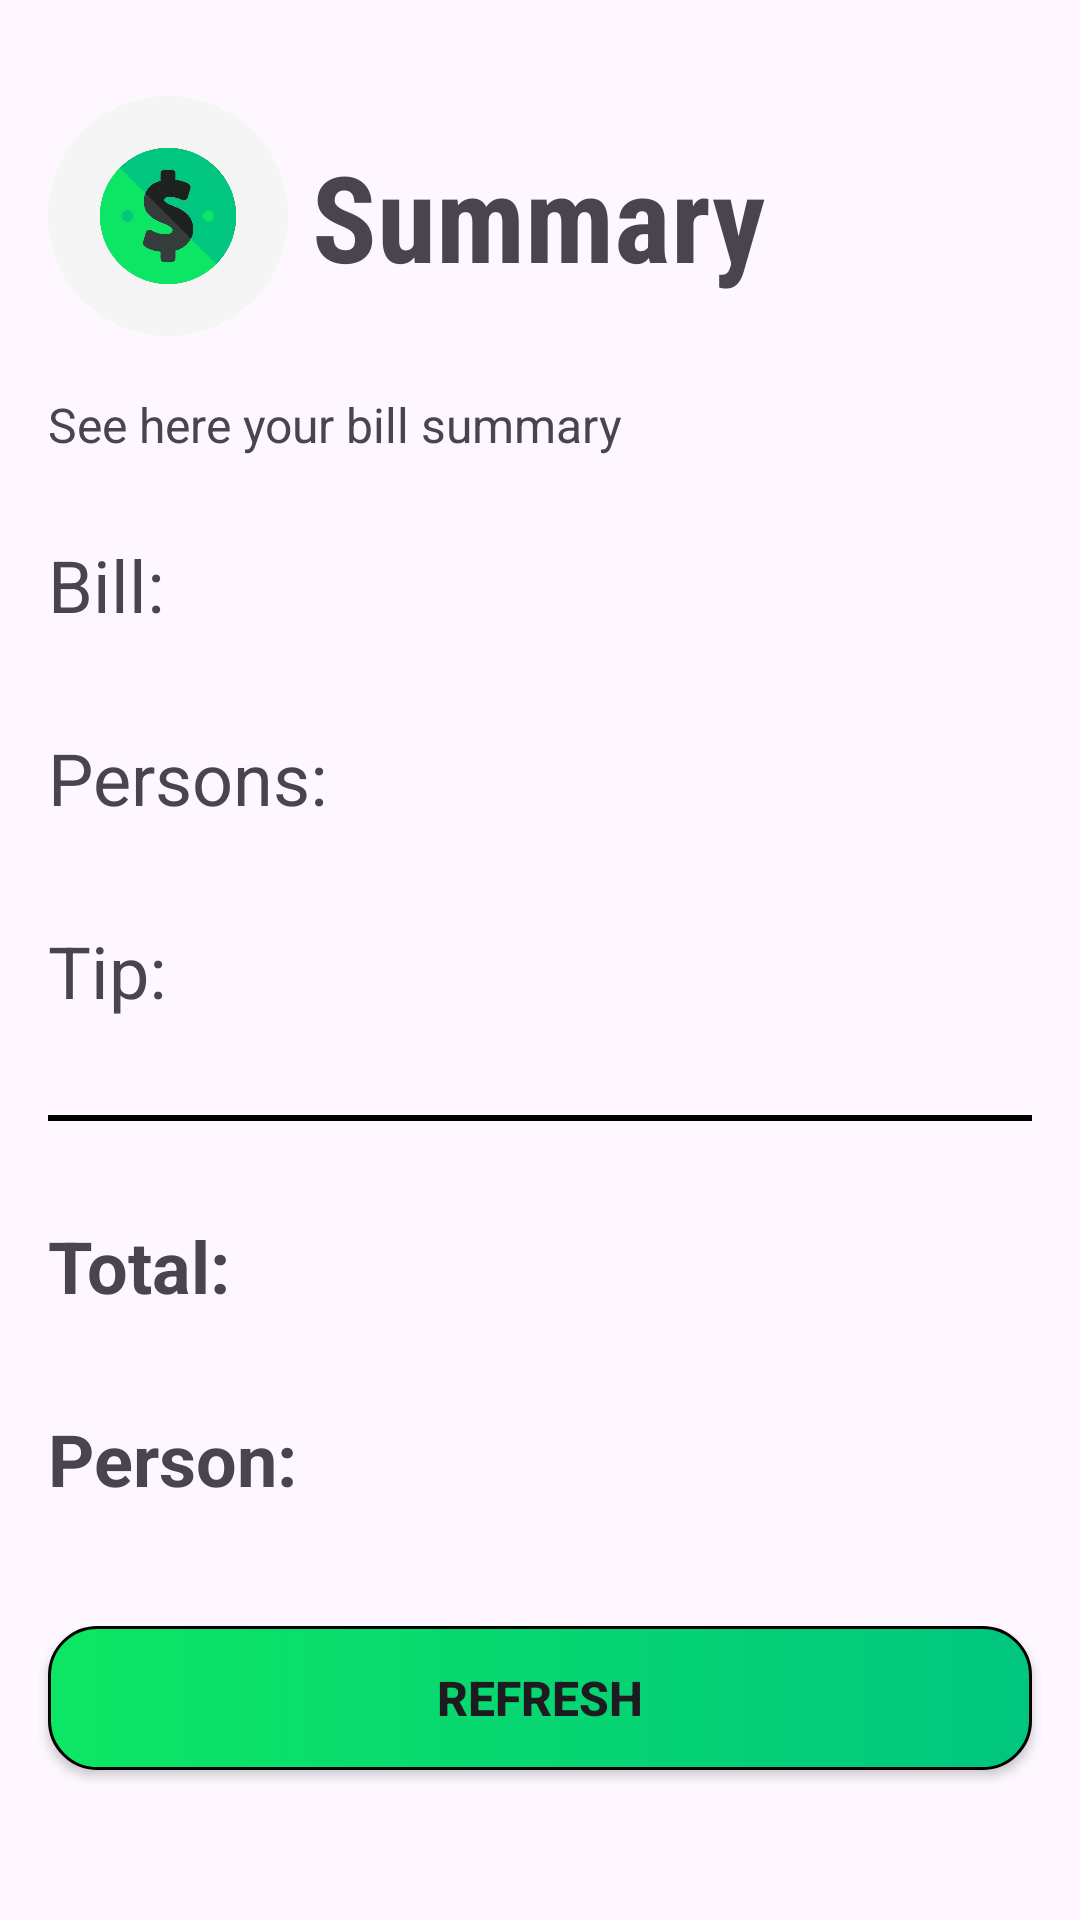

Screen size 1080w x 1920h. Icon name, then its center in pixels as [x,y]:
dollar: [168,216]
